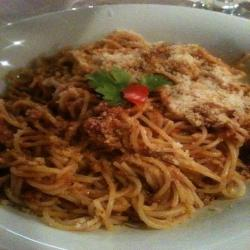bolonese_pasta: (1, 36, 249, 224)
